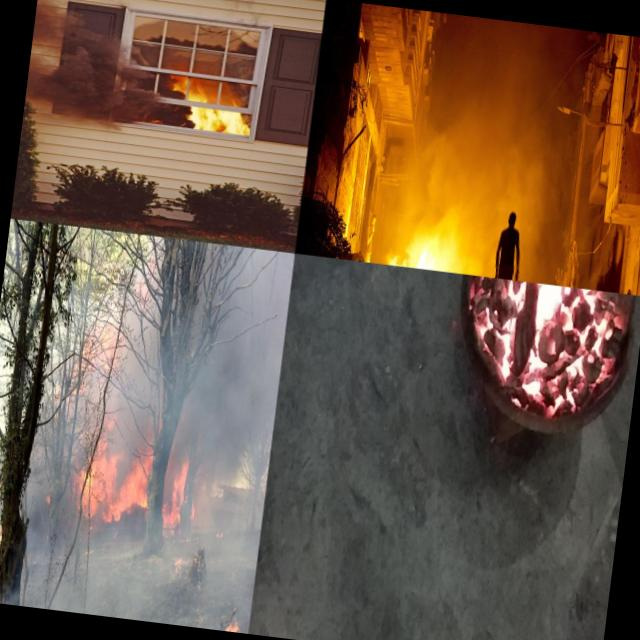fire: (448, 274, 632, 435), (78, 442, 154, 528), (172, 66, 254, 140), (380, 213, 478, 274), (159, 450, 201, 534), (220, 607, 247, 633)
smoke: (182, 247, 294, 611), (0, 513, 190, 625), (36, 274, 126, 446), (153, 242, 226, 452), (106, 281, 172, 452), (22, 54, 110, 130), (16, 435, 87, 523), (103, 62, 178, 138), (31, 15, 128, 64), (35, 0, 86, 19)
